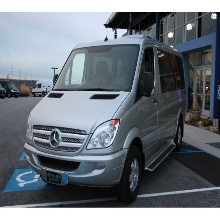no damage: (23, 36, 187, 200)
